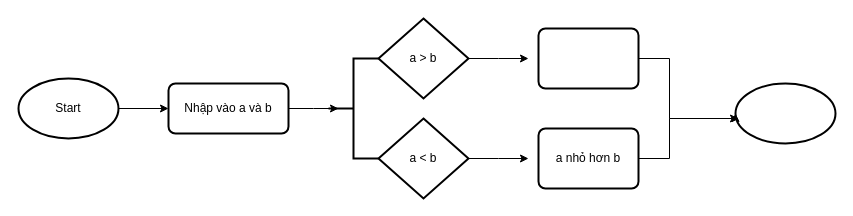
Image size: 853x216. Some labels were removed from this diagram. The shapes that lost their labels are listed below. From the top down, each one's box as (x1, y1, x2, y2) in pixels, then its label:
(537, 27, 639, 89): b nhỏ hơn a
(734, 82, 836, 144): End
